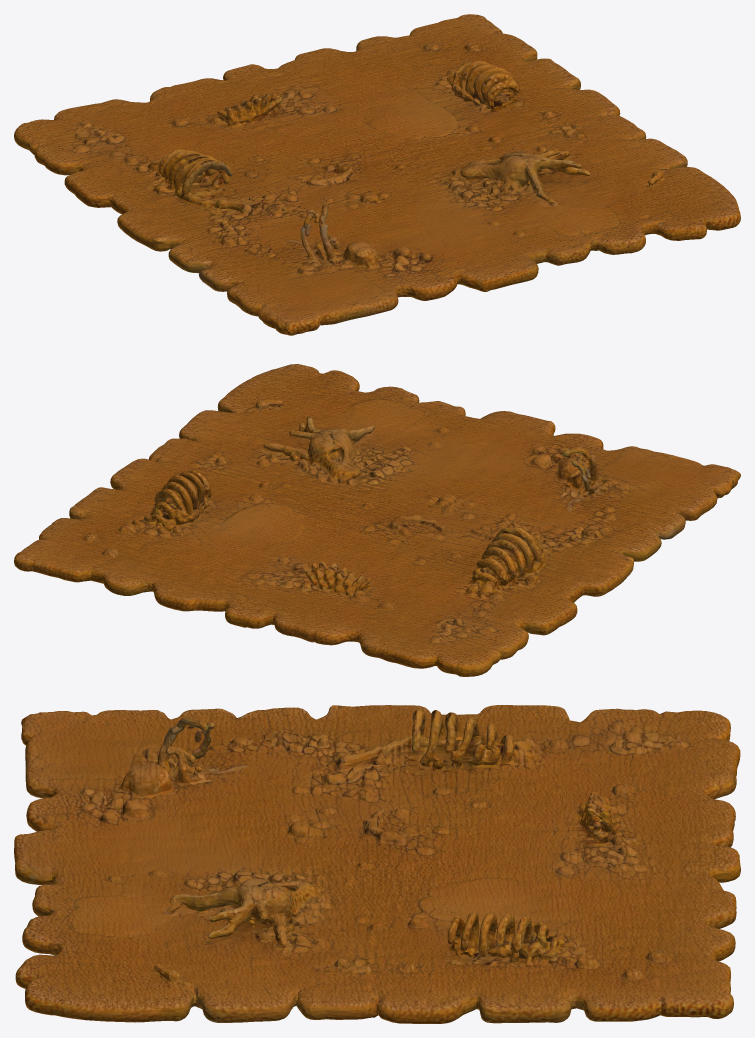
The model's file is desert-ground-8.glb.
3 views of the same model, one above another, from view 1: azimuth 30°, elevation 25°; view 2: azimuth 150°, elevation 25°; view 3: azimuth 270°, elevation 25° (orthographic). The views are drawn at different scales.
Visible parts, largest first — view 1: textured_mesh.obj; view 2: textured_mesh.obj; view 3: textured_mesh.obj.
Boxes of the visible parts, x1,y1,x2,y2 form: textured_mesh.obj: (14, 14, 740, 335); textured_mesh.obj: (14, 364, 740, 676); textured_mesh.obj: (14, 705, 740, 1023).
Size of the model in its own units: 1.99 by 0.2293 by 1.98.
1 material, 1 textured.
